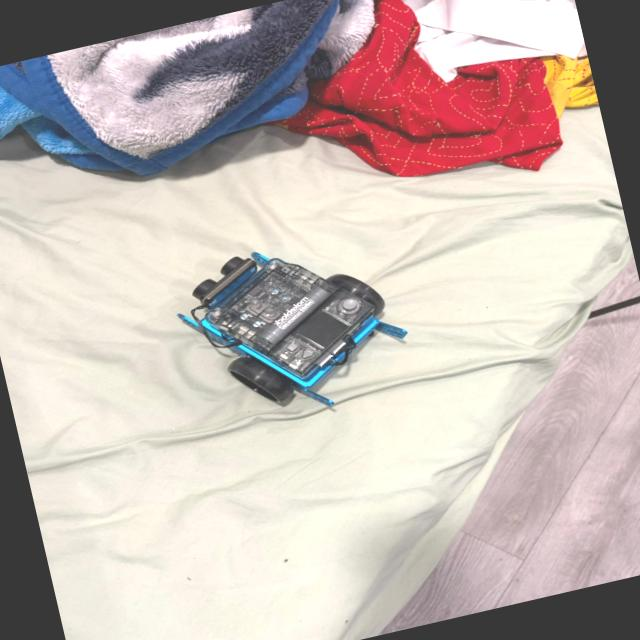mbot-detection: (162, 215, 428, 440)
